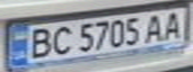0: (109, 16, 130, 48)
5: (75, 20, 96, 53), (124, 15, 145, 46)
7: (90, 18, 112, 51)
A: (157, 9, 190, 40), (142, 11, 169, 43)
B: (21, 25, 54, 60)
C: (48, 24, 75, 56)
